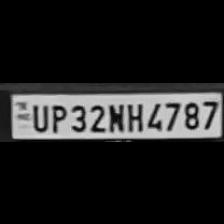2: (87, 100, 105, 132)
3: (67, 100, 87, 132)
4: (143, 98, 163, 130)
7: (199, 97, 219, 129), (162, 98, 180, 130)
8: (180, 98, 200, 130)
H: (124, 99, 144, 130)
N: (105, 99, 124, 130)
P: (49, 100, 67, 132)
U: (29, 100, 48, 130)
